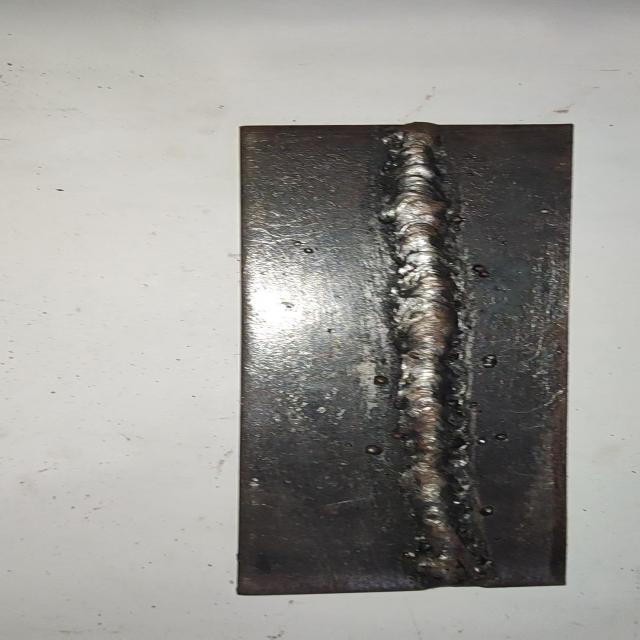Good Weld: (378, 124, 482, 585)
